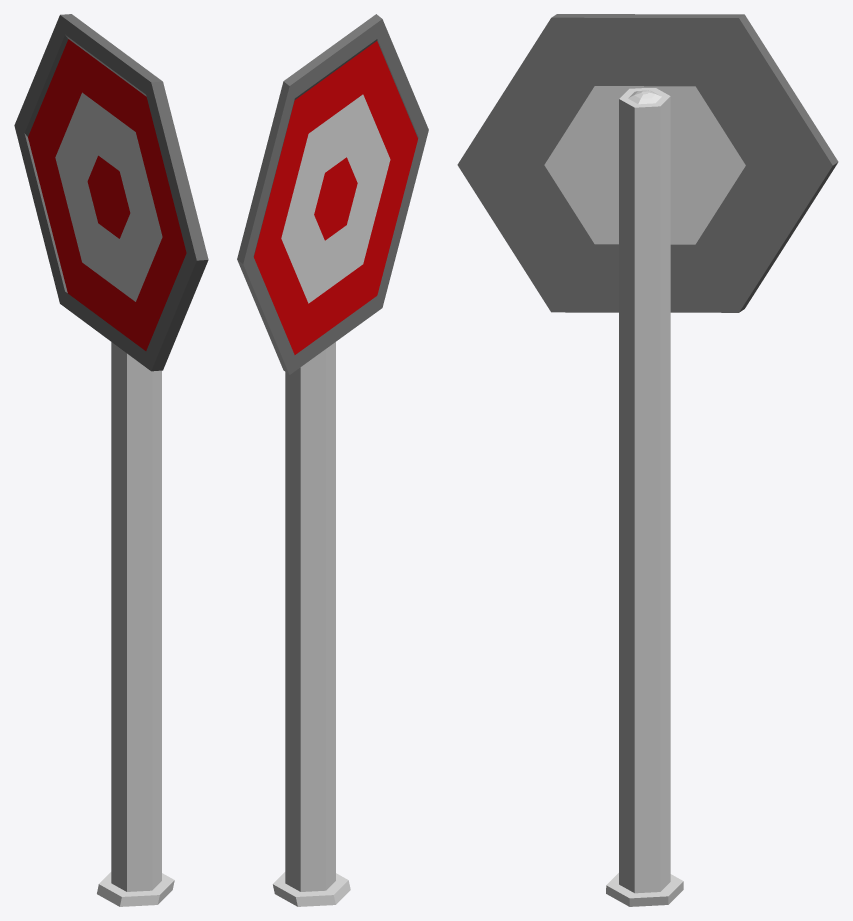
The model's file is Trafico.fbx.
3 views of the same model, side by side, from view 1: azimuth 30°, elevation 25°; view 2: azimuth 150°, elevation 25°; view 3: azimuth 270°, elevation 25° (orthographic).
Visible parts, largest first — view 1: SeñalDeTrafico.008; view 2: SeñalDeTrafico.008; view 3: SeñalDeTrafico.008.
Boxes of the visible parts, <box> form: SeñalDeTrafico.008: <box>14,14,208,906</box>; SeñalDeTrafico.008: <box>237,14,428,906</box>; SeñalDeTrafico.008: <box>457,14,838,906</box>.
Bounding box in the file's own units: 0.1169 × 1.5 × 0.599.
